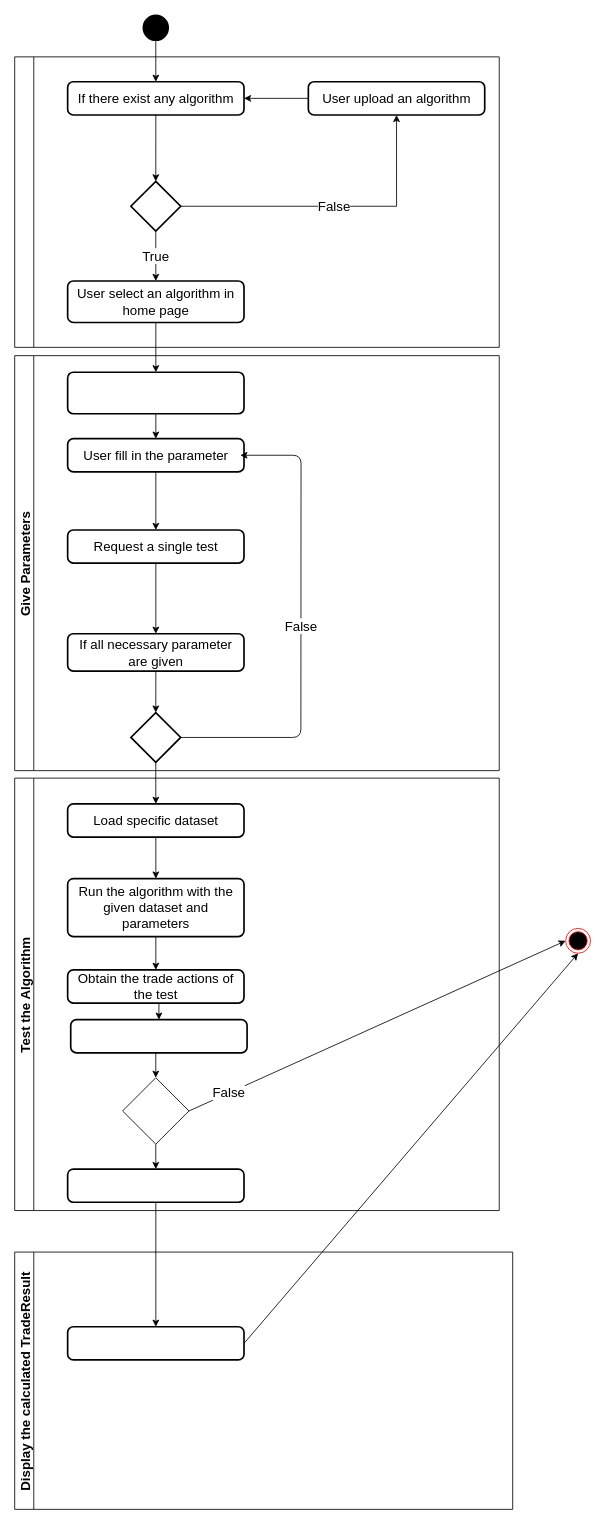
Some shapes in this 605 by 1524 pixel diagram are drawn without their labels. The centre of each missing label's shape, as x and y in pixels:
"Calculate trade results of test" goes at [155,1185].
"Direct to the page for setting parameter" goes at [155,392].
"Display the statistical chart" goes at [155,1343].
"If the algorithm runs successfully" goes at [158,1035].
"Specify an Algorithm" goes at [256,201].
